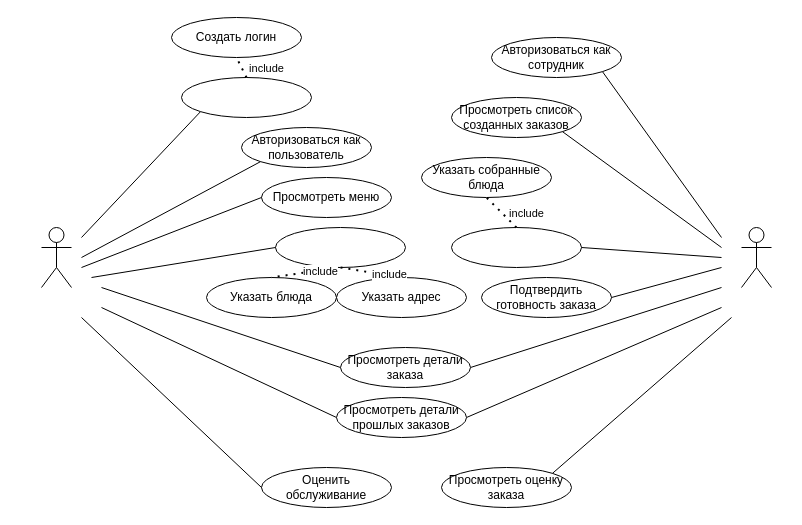
Image size: 802x525. Some labels were removed from this diagram. The shapes that lost their labels are listed below. From the top down, each one's centre as x and y in pixels, then its label:
At point (246, 97): "Зарегистрироваться как пользователь".
At point (56, 257): "Пользователь".
At point (340, 247): "Создать заказ".
At point (516, 247): "Собрать заказ".
At point (756, 257): "Сотрудник".
